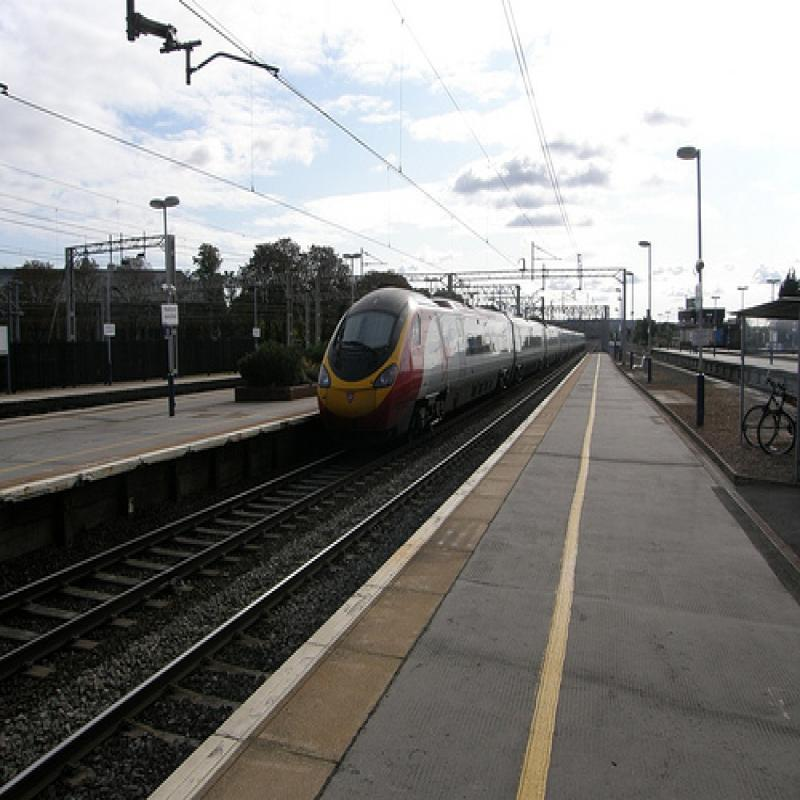train: (320, 289, 592, 449)
